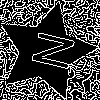N: (21, 26, 76, 72)
